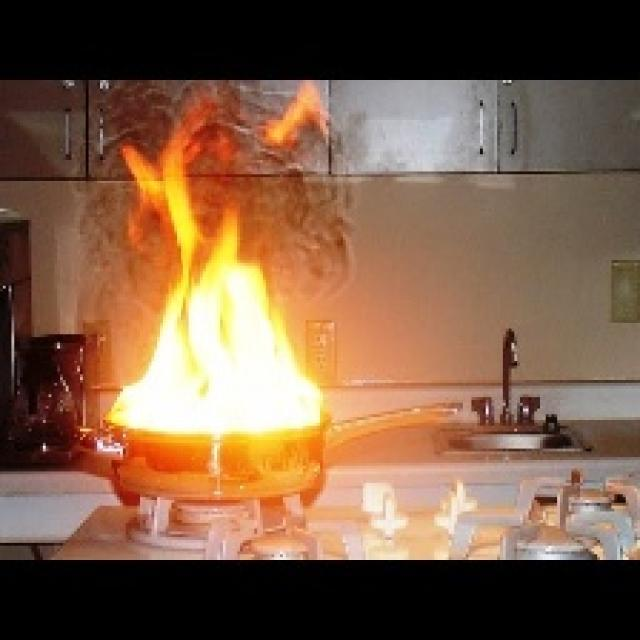Fire: (108, 138, 318, 430)
